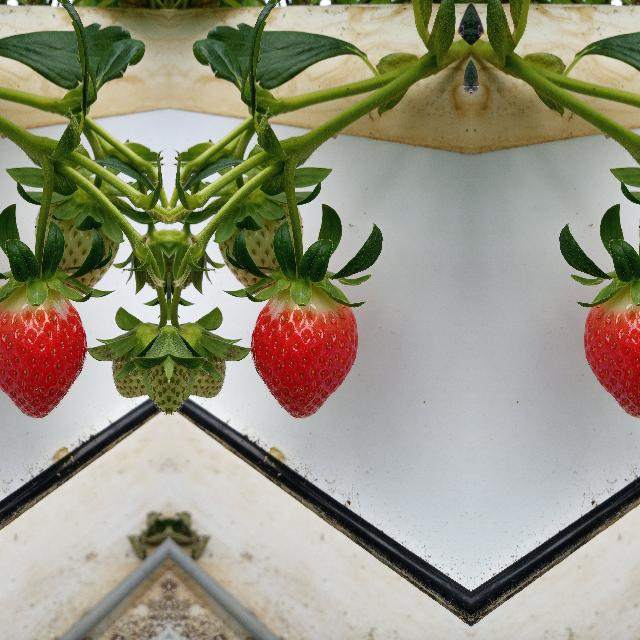Health_100: (249, 285, 357, 417), (0, 285, 87, 417), (584, 285, 640, 417)
Health_25: (204, 185, 314, 288), (22, 185, 132, 288), (106, 320, 160, 398), (177, 320, 230, 398)
